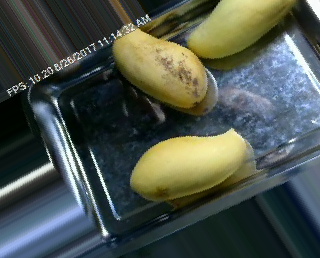Mango: (125, 126, 250, 201), (112, 21, 208, 109), (185, 0, 299, 57)
